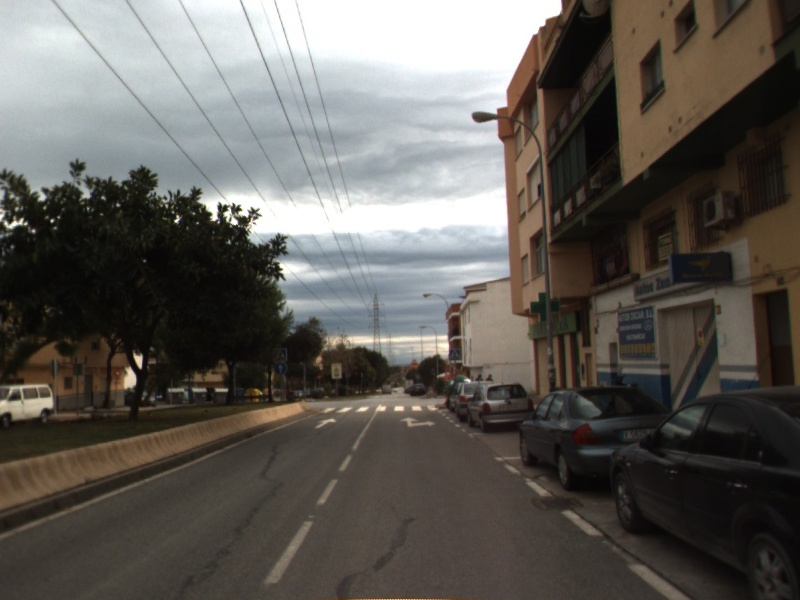STRAIGHT: (312, 415, 339, 430)
STRAIGHT_RIGHT: (398, 414, 438, 429)
